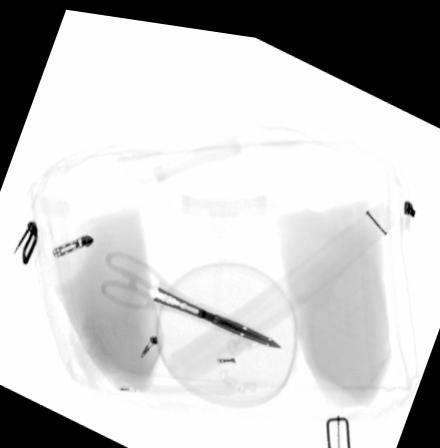Scissors: (99, 244, 281, 339)
